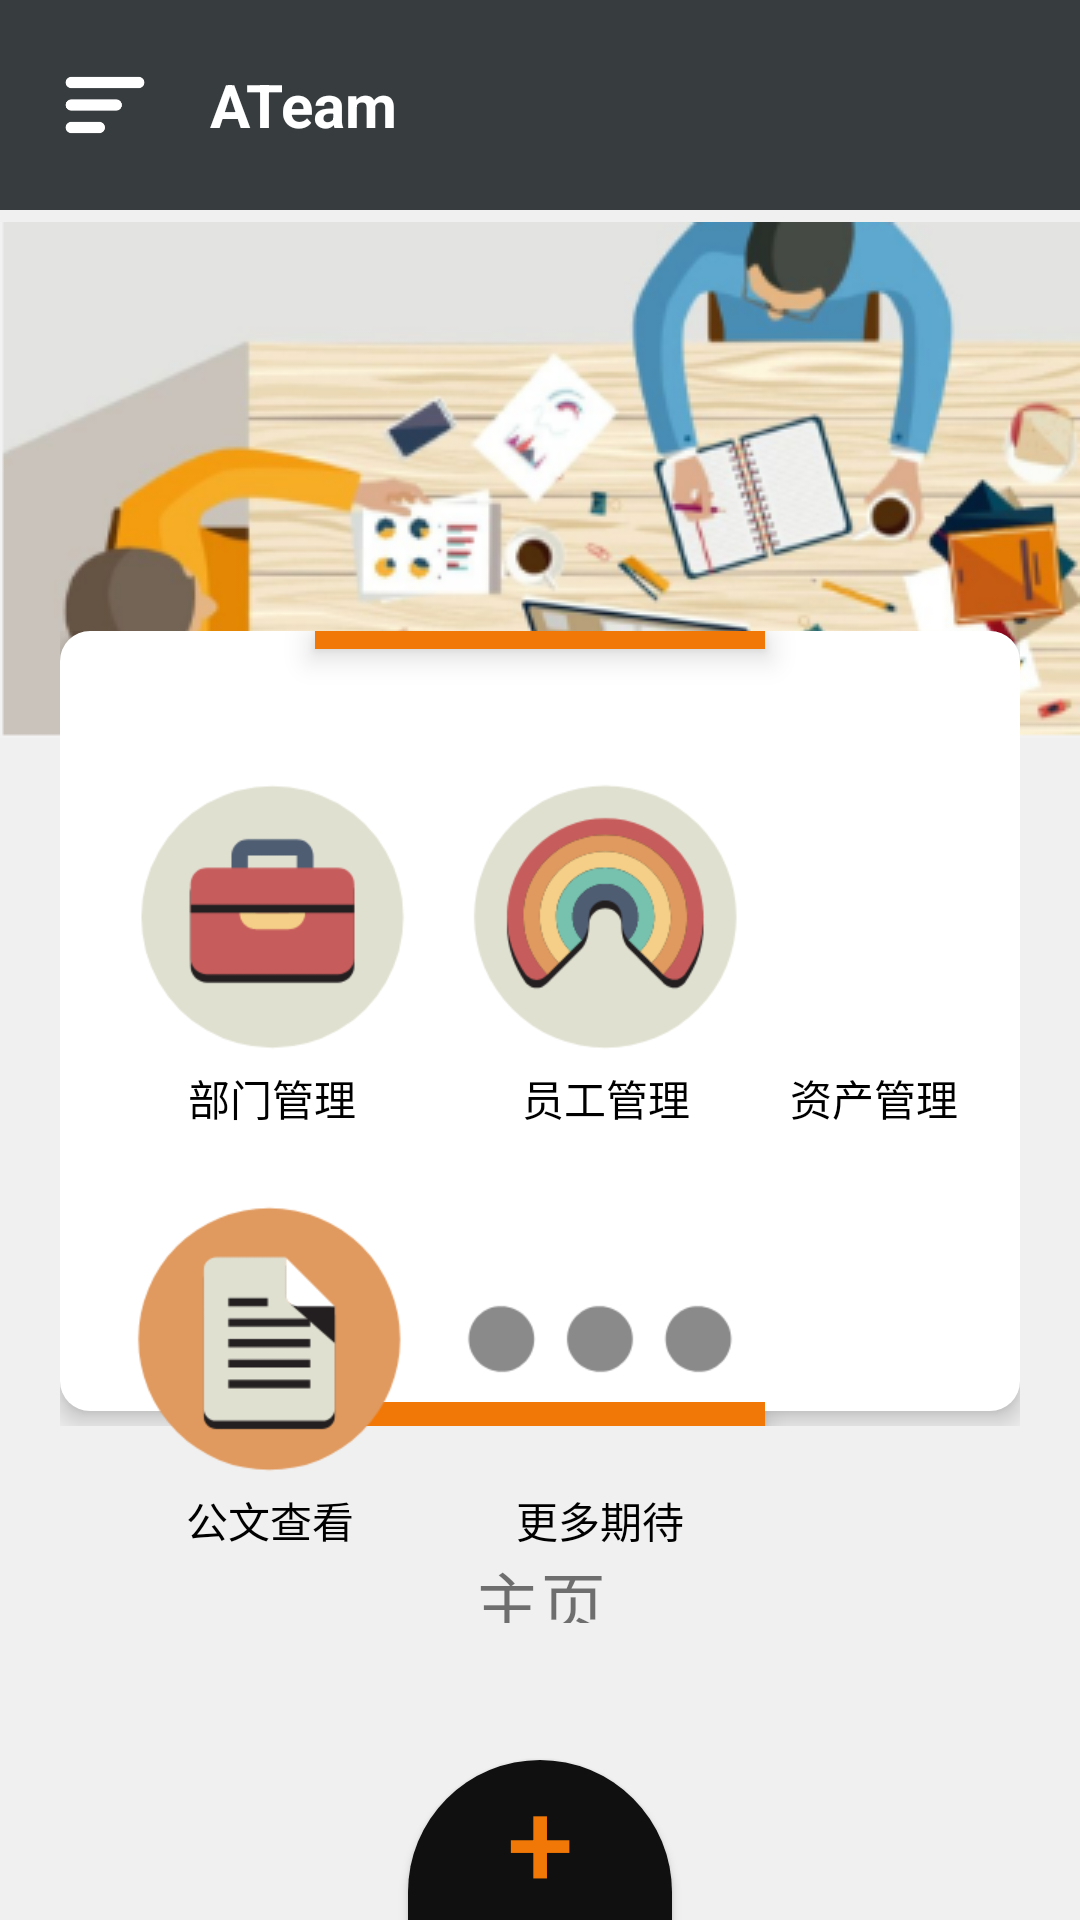

Where to tap for icons on this 1080px x 1920px app screen, as [x,y]:
menu: [105,105]
